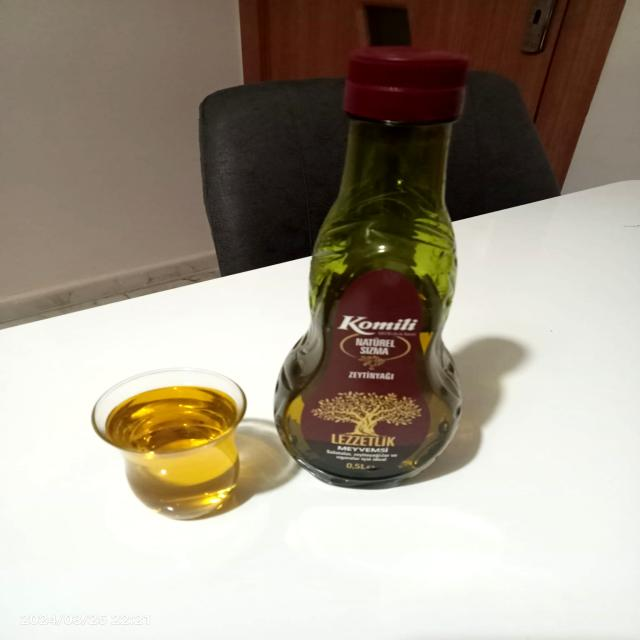olive oil: (261, 50, 493, 491), (71, 358, 275, 523)
